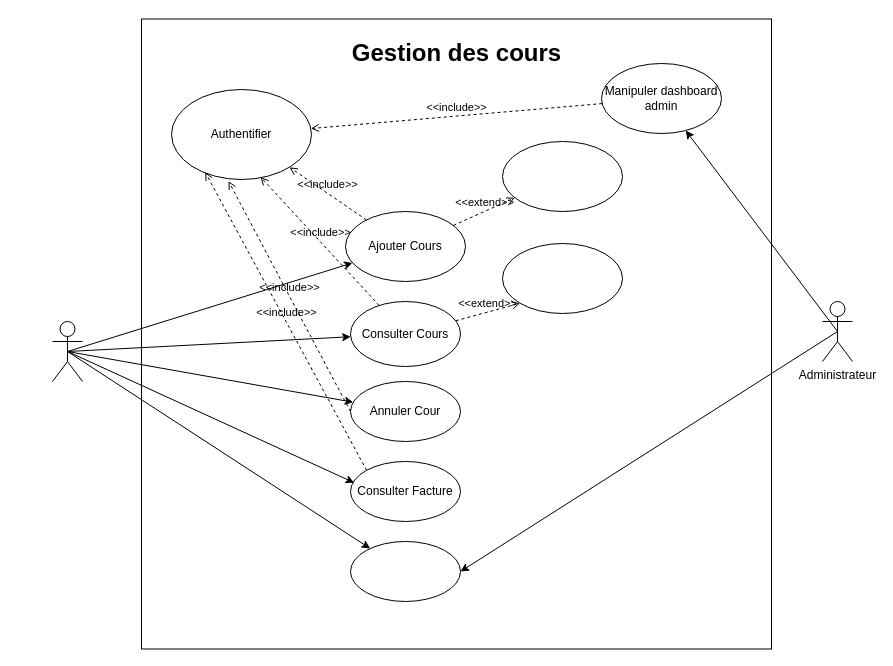
This 893x666 diagram has some shape labels left out. Each missing label, with the box of its shape:
Ajouter Plusieurs Cours: (502, 140, 622, 212)
Consulter Grille de cheminement: (502, 242, 622, 314)
Consulter IA: (350, 540, 460, 602)
Utilisateur/Etudiant: (52, 320, 82, 382)
